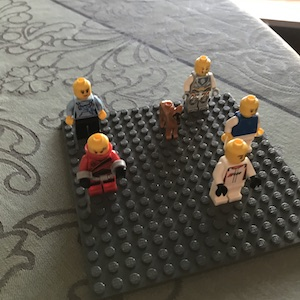Lego: (74, 132, 127, 203), (207, 138, 258, 209), (217, 92, 266, 162), (64, 77, 108, 144), (179, 54, 216, 116)
